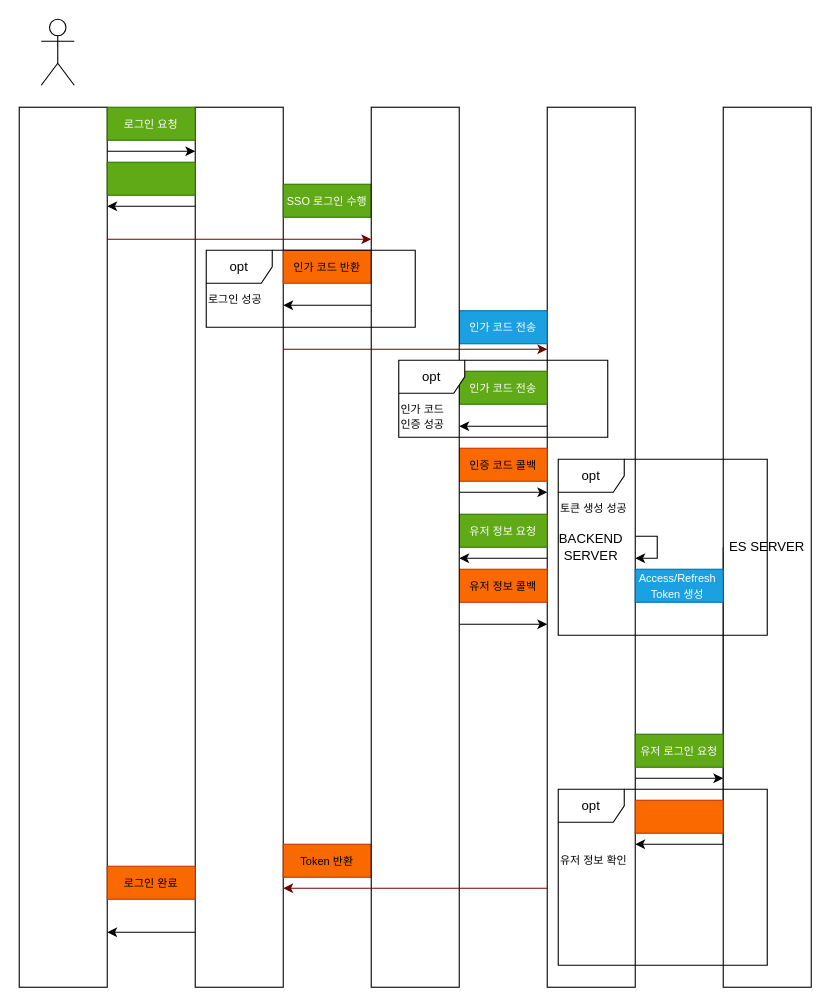
Image size: 831x1007. Some labels were removed from this diagram. The centre of each missing label's shape, as x and y in pixels:
Actor: the point at 57,51
Front Web Page: the point at 238,546
SSO SITE: the point at 414,546
SSO 로그인 요청: the point at 150,178
USER: the point at 62,546
유저 정보 반환: the point at 678,816
